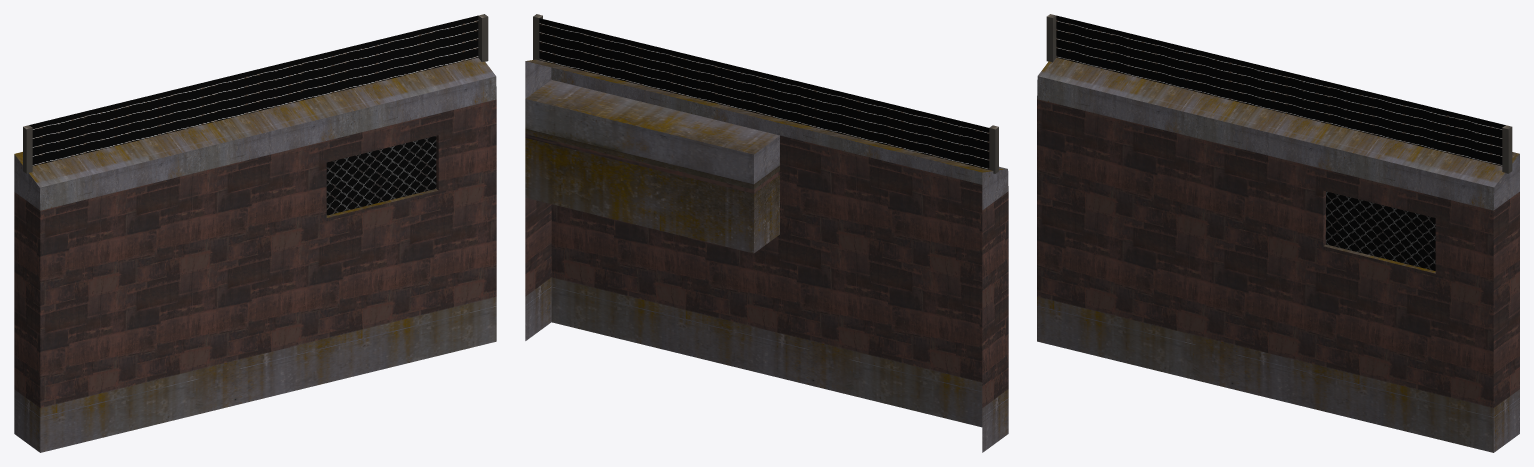
File: Wall B Barbed.fbx
The picture shows the model from 3 angles, left to right: view 1: azimuth 30°, elevation 25°; view 2: azimuth 150°, elevation 25°; view 3: azimuth 330°, elevation 25°; orthographic projection.
Parts seen in each view (by area): view 1: Cube, Cube.057, Cube.060; view 2: Cube, Cube.057; view 3: Cube, Cube.057, Cube.060.
Part boxes in pixels (x1=…): Cube: x1=14, y1=57, x2=496, y2=452; Cube.057: x1=23, y1=14, x2=488, y2=173; Cube.060: x1=326, y1=136, x2=436, y2=215; Cube: x1=525, y1=59, x2=1008, y2=452; Cube.057: x1=533, y1=14, x2=998, y2=173; Cube: x1=1037, y1=57, x2=1519, y2=452; Cube.057: x1=1046, y1=14, x2=1512, y2=173; Cube.060: x1=1326, y1=191, x2=1435, y2=270.
Bounding box in the file's own units: 2043 × 1335 × 200.
